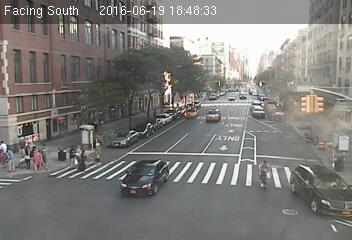neg: (246, 154, 281, 200), (71, 103, 90, 129), (109, 98, 125, 120), (115, 131, 131, 152), (159, 108, 172, 127), (176, 100, 189, 116), (127, 110, 139, 126), (57, 117, 67, 132)
pos: (35, 143, 56, 171), (25, 145, 45, 171), (1, 146, 19, 173), (62, 144, 80, 168)
